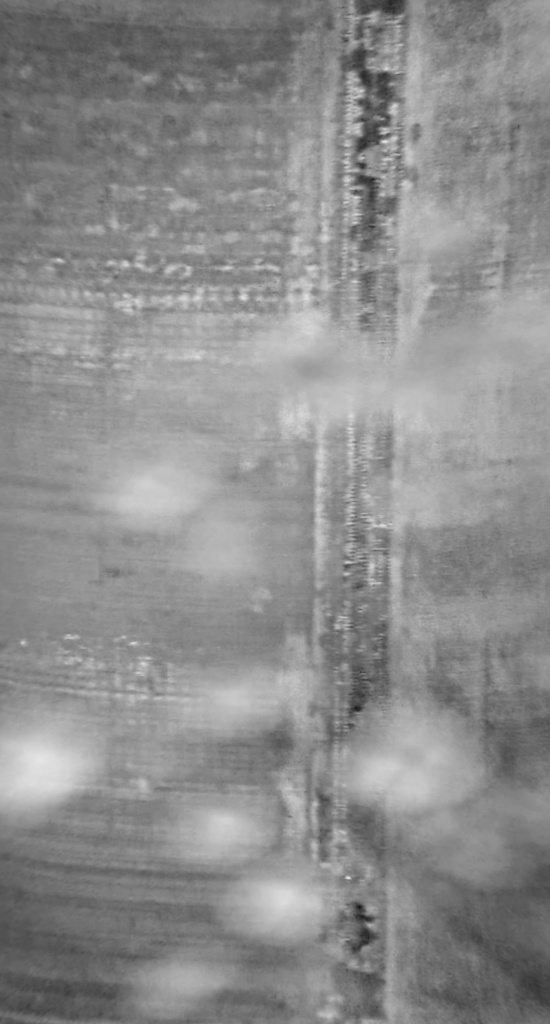splice: (317, 1, 420, 1023)
